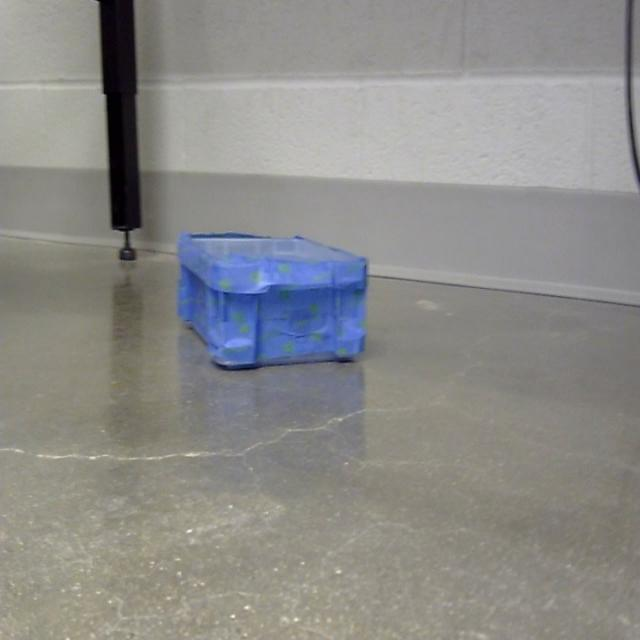bucket: (176, 233, 370, 371)
